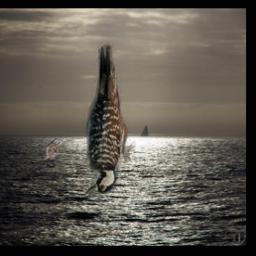Cuckoo: (45, 139, 63, 160)
Woodpecker: (84, 36, 137, 194)
